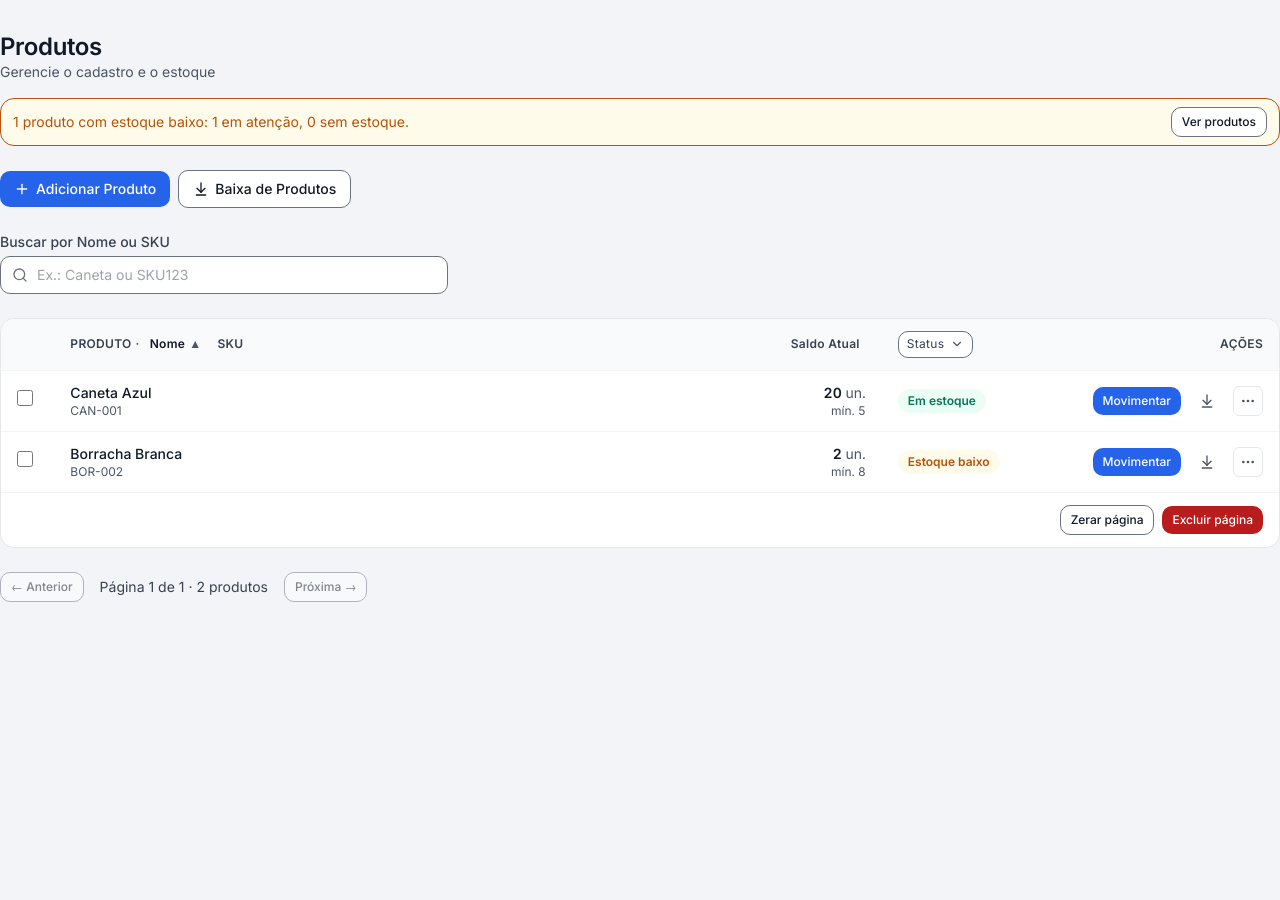
ProductDashboard — cada ação de linha abre o diálogo correspondente (PD-2) › PD-2 · a baixa rápida da linha abre o diálogo de baixa daquele produto
expect the checkbox named "Selecionar Caneta Azul" is shown: met, box [17,390,33,406]
Click the button named "Dar baixa rápida em Caneta Azul".
click(1207, 401)  # box [1189,387,1225,415]
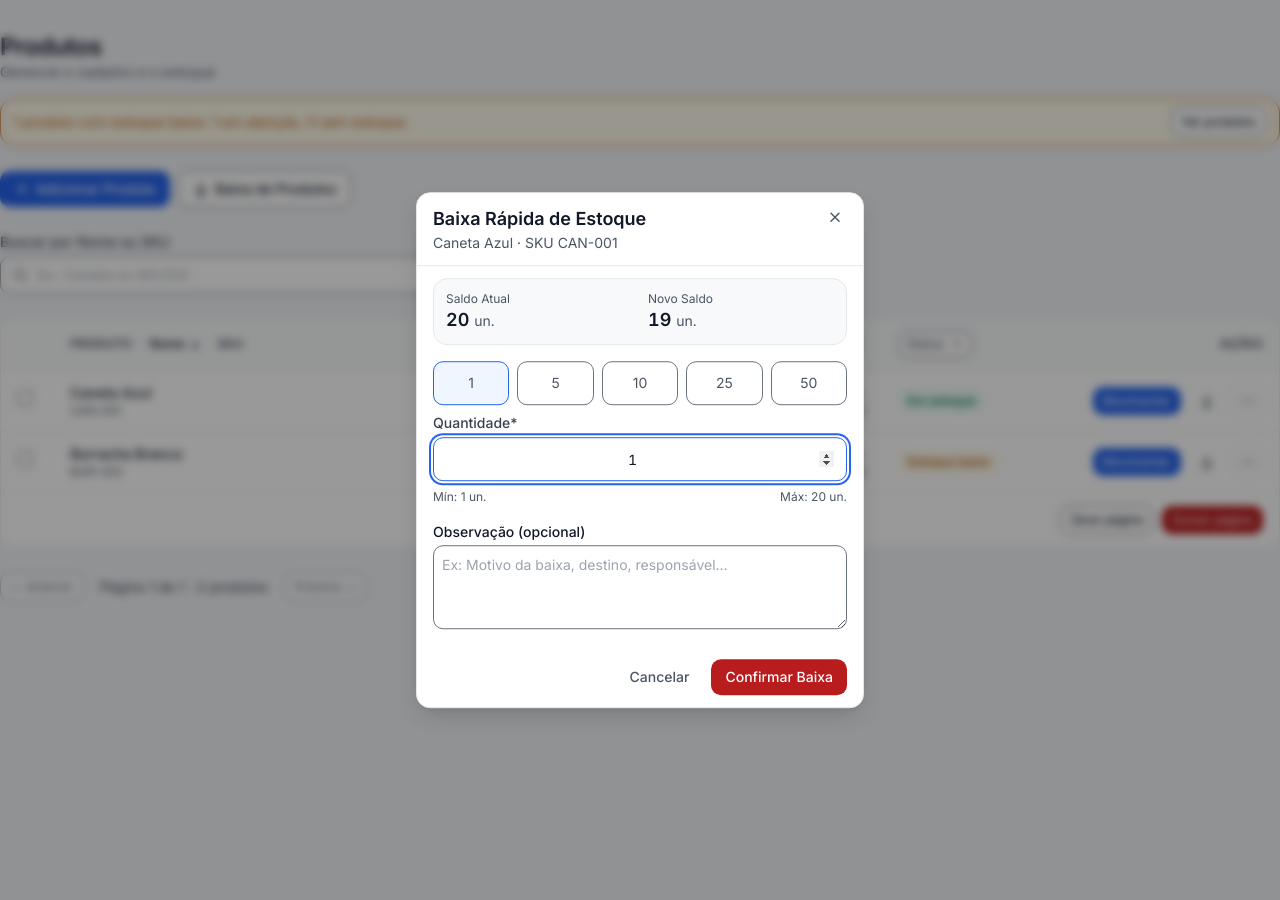
expect the text "CAN-001" is shown: met, box [70,403,122,418]
expect the heading "Baixa Rápida de Estoque" is shown: met, box [433,205,646,233]
